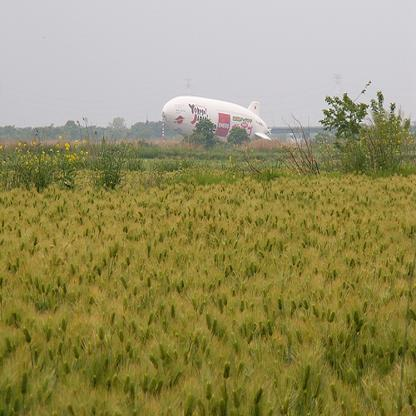Airship: (159, 91, 281, 151)
